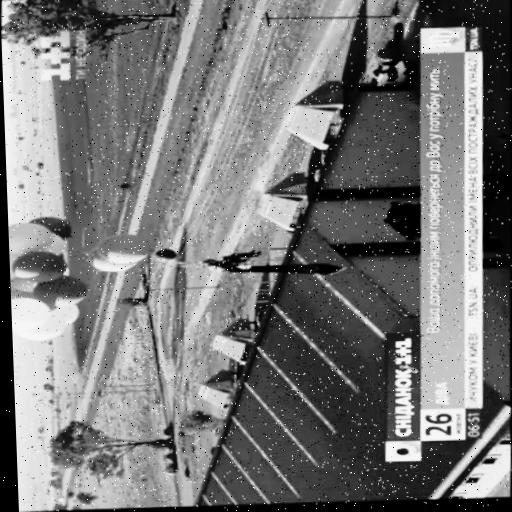balloon: (37, 275, 91, 306), (19, 249, 67, 282), (16, 309, 66, 340), (100, 232, 155, 260), (8, 221, 55, 252), (90, 249, 144, 272), (11, 297, 49, 328), (34, 216, 72, 237), (55, 301, 85, 326), (46, 237, 70, 254), (9, 248, 17, 282), (157, 250, 176, 258)
